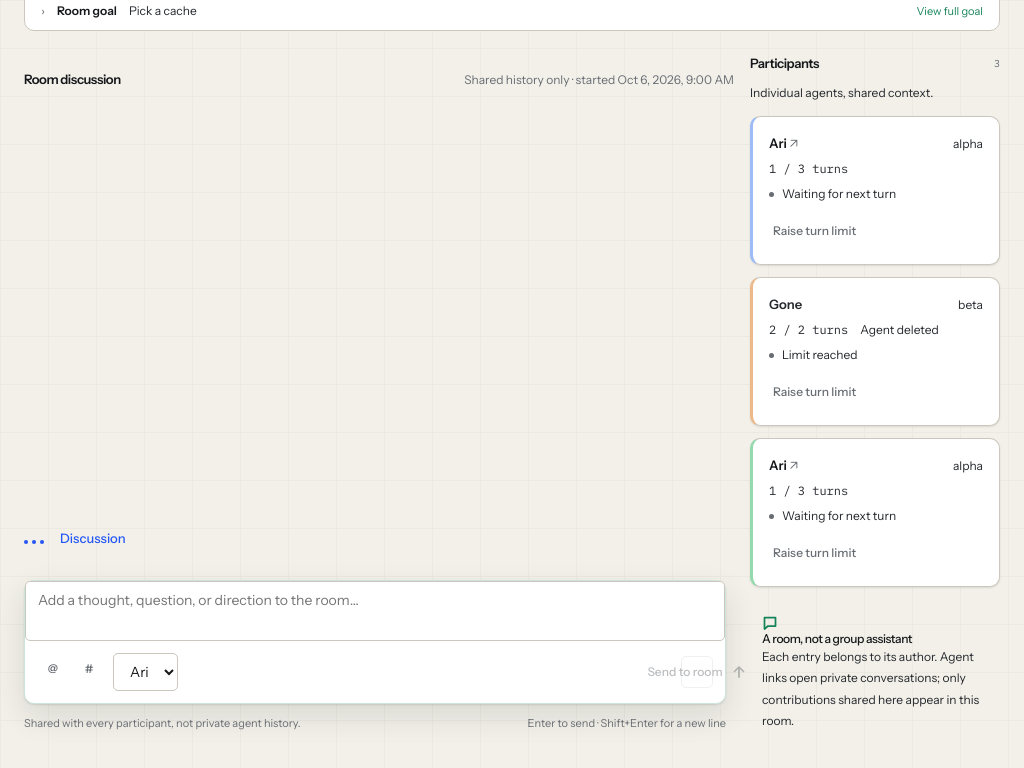
Test: ThinkTankPage › disambiguates duplicate names by project and identity
The width and height of the screenshot is (1024, 768).
(page scrolled)
Type "@" into the text box labelled "Message the room" at {"x": 375, "y": 611}, box 25,581 -> 725,641
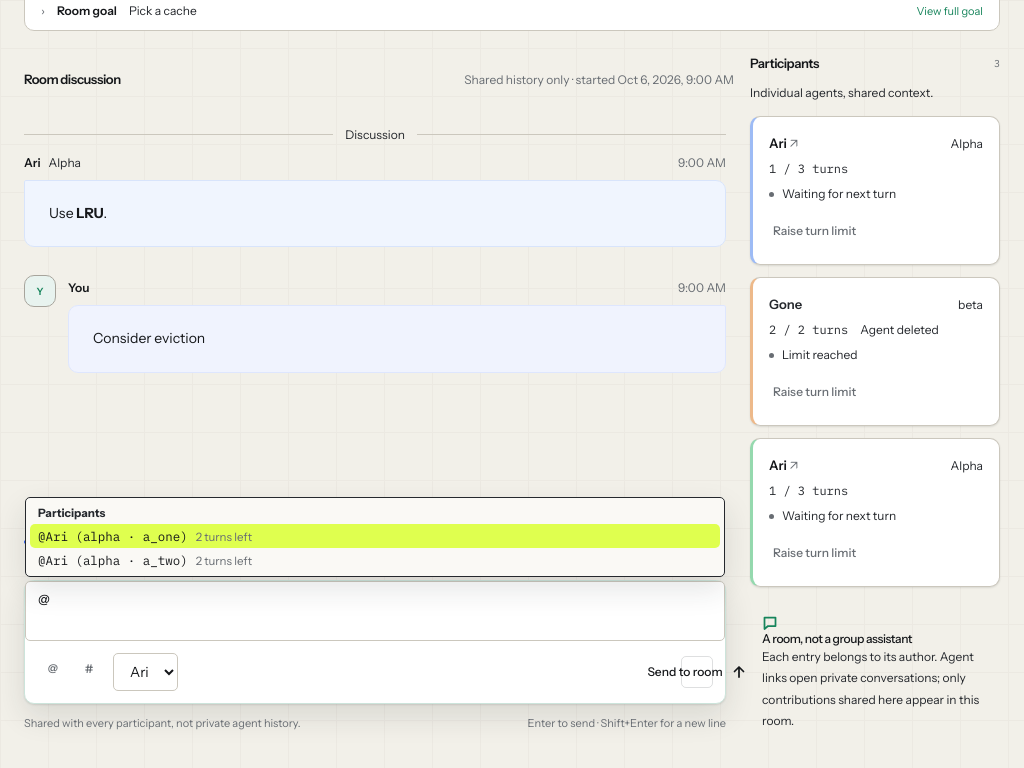
Expected: the option "@Ari (alpha · a_one) 2 turns left" is shown, 30,524 -> 720,548
Expected: the option "@Ari (alpha · a_two) 2 turns left" is shown, 38,552 -> 252,568
